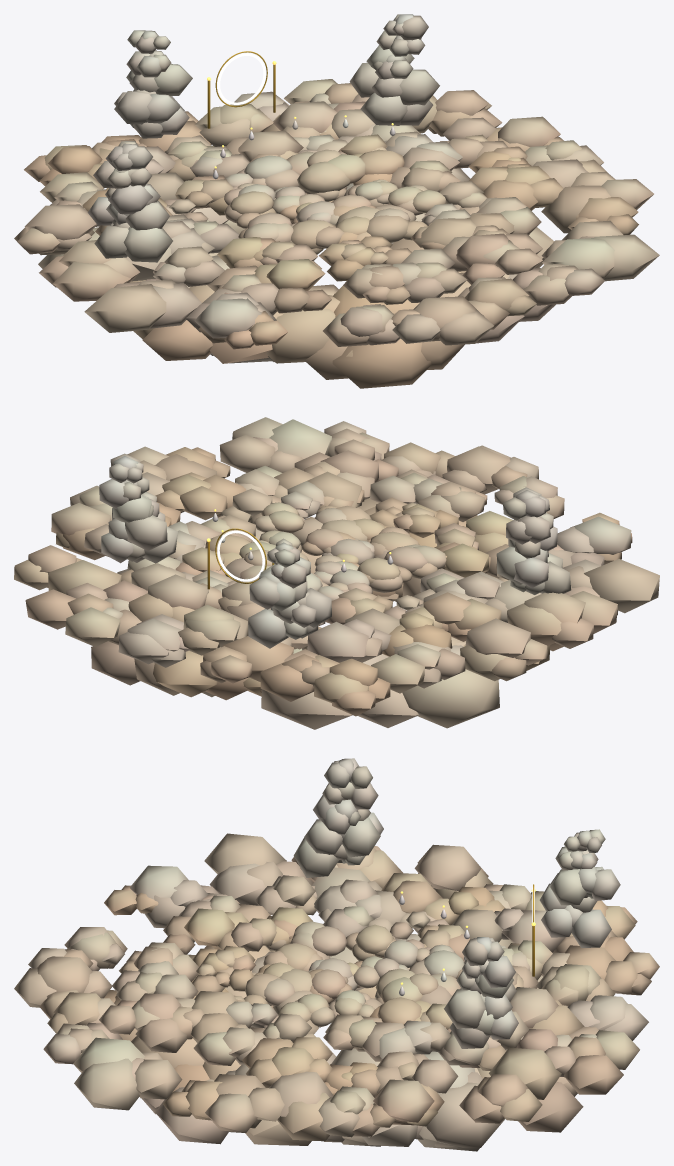
The model's file is journey_highsky.glb.
3 renders of one model, top to bottom at view 1: azimuth 30°, elevation 25°; view 2: azimuth 150°, elevation 25°; view 3: azimuth 270°, elevation 25°, orthographic. The views are drawn at different scales.
Visible parts, largest first — view 1: Scenery_Journey Cloud.001, Scenery_Journey Steel.005; view 2: Scenery_Journey Cloud.001, Scenery_Journey Glow white.003; view 3: Scenery_Journey Cloud.001.
Boxes of the visible parts, left/top/right/bottom form: Scenery_Journey Cloud.001: left=14, top=14, right=659, bottom=388; Scenery_Journey Steel.005: left=207, top=51, right=275, bottom=128; Scenery_Journey Cloud.001: left=14, top=417, right=659, bottom=729; Scenery_Journey Glow white.003: left=217, top=530, right=264, bottom=581; Scenery_Journey Cloud.001: left=14, top=758, right=659, bottom=1151.
Size of the model in its own units: 168 by 59.81 by 162.
